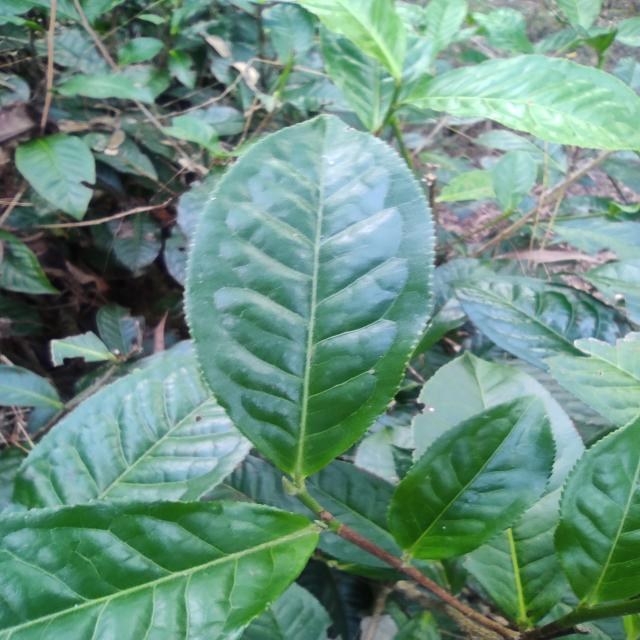Category D(7+ days, Not for Tea): (144, 94, 440, 493)
